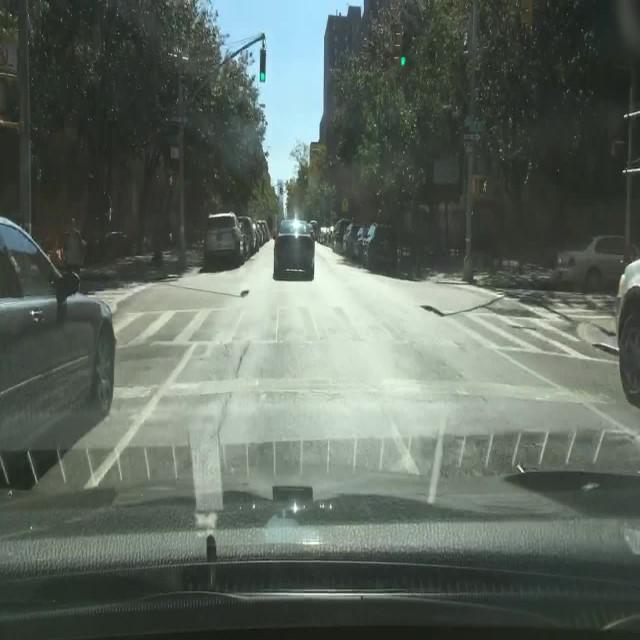normal: (320, 204, 417, 277), (187, 197, 272, 278), (252, 199, 330, 287)
